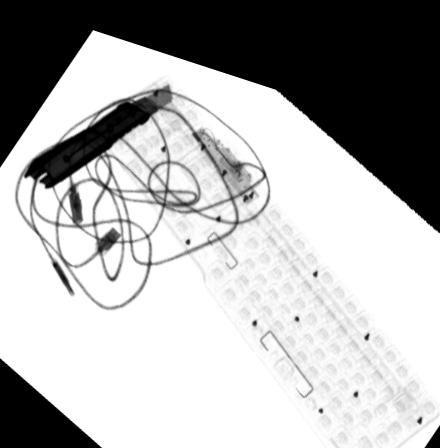Knife: (22, 72, 173, 187)
